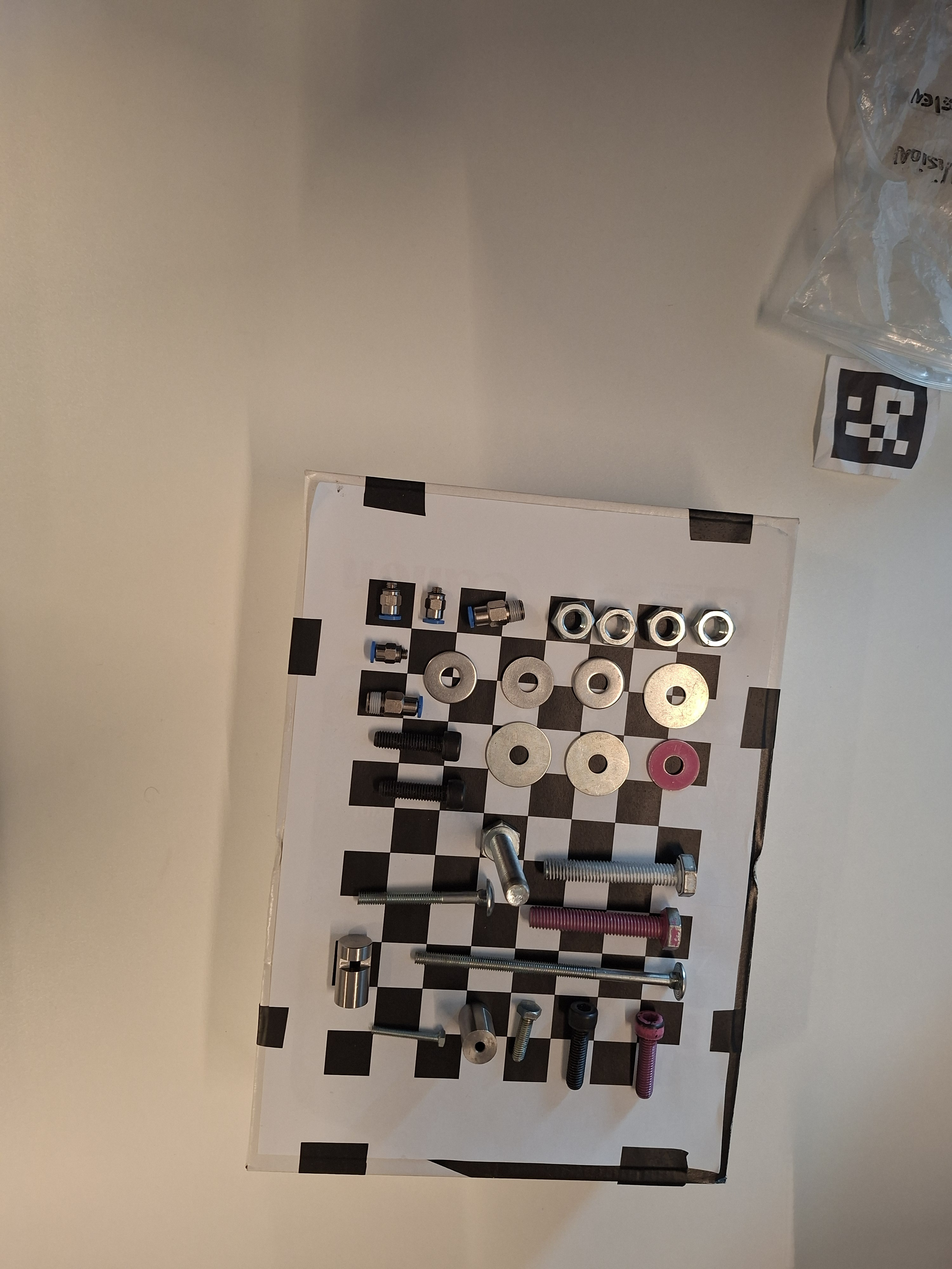allen_screw: (369, 763, 473, 817), (552, 999, 605, 1094), (362, 718, 469, 765), (625, 1006, 671, 1102)
barrel_nut: (328, 930, 373, 1013), (452, 997, 500, 1068)
carriage_bolt: (406, 929, 692, 1006), (353, 876, 500, 921)
hex_bolt: (520, 890, 688, 955), (543, 844, 700, 900), (469, 811, 553, 912), (500, 994, 551, 1066), (364, 1018, 450, 1052)
hex_nut: (634, 597, 698, 656), (585, 599, 642, 652), (548, 595, 598, 645), (690, 604, 739, 650)
pneumatic_fitting: (463, 592, 531, 634), (363, 687, 426, 722), (372, 578, 408, 624), (417, 583, 453, 627), (364, 637, 413, 669)
washer: (555, 725, 640, 803), (633, 659, 719, 735), (480, 718, 554, 790), (413, 646, 483, 709), (640, 735, 708, 795), (562, 656, 629, 714), (495, 652, 559, 712)
